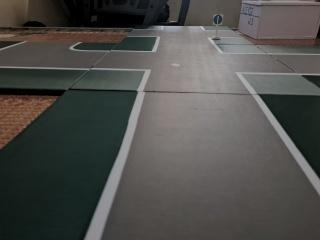straight: (211, 10, 225, 29)
